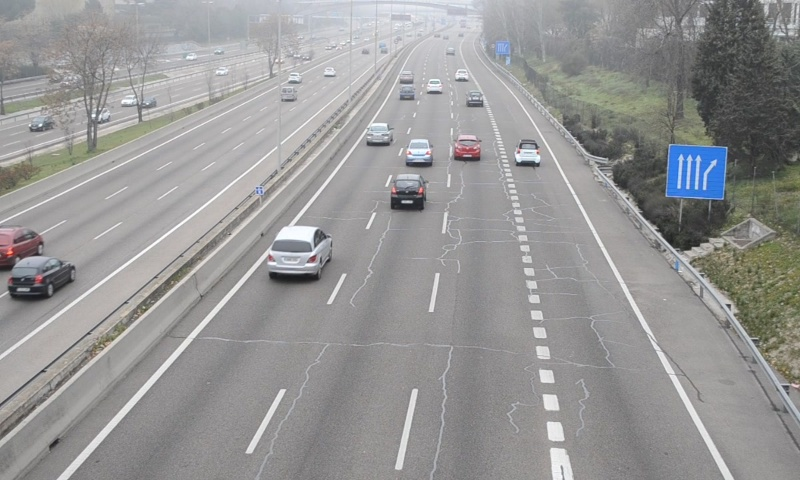car: (267, 224, 334, 274), (390, 172, 425, 209), (405, 138, 434, 166), (454, 134, 482, 162), (514, 139, 542, 166), (365, 120, 394, 146), (466, 90, 484, 108), (426, 76, 444, 94), (398, 86, 414, 101)
